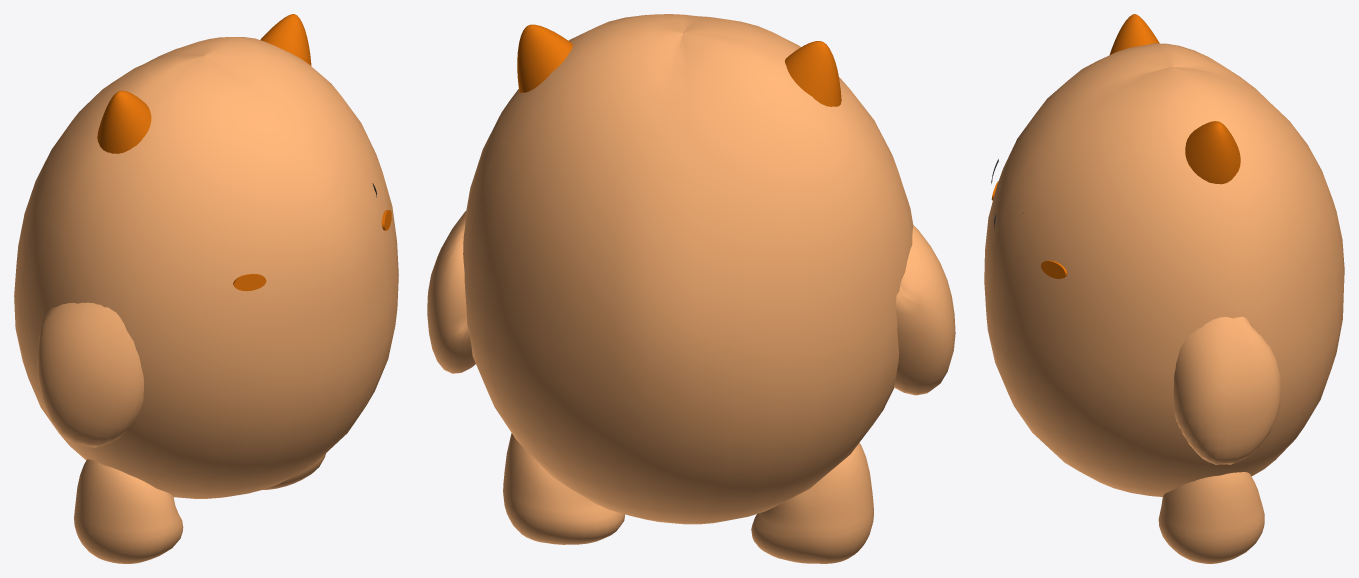
The model's file is LittleMonster1.glb.
The picture shows the model from 3 angles, left to right: view 1: azimuth 30°, elevation 25°; view 2: azimuth 150°, elevation 25°; view 3: azimuth 270°, elevation 25°; orthographic projection. The views are drawn at different scales.
Parts seen in each view (by area): view 1: SurfSphere, SurfSphere.001, SurfSphere.003, SurfSphere.006, SurfSphere.005; view 2: SurfSphere, SurfSphere.003, SurfSphere.001, SurfSphere.004, SurfSphere.002, SurfSphere.005, SurfSphere.006; view 3: SurfSphere, SurfSphere.002, SurfSphere.004, SurfSphere.005, SurfSphere.006.
Part boxes in pixels (x1=…): SurfSphere: x1=14, y1=37, x2=398, y2=498; SurfSphere.001: x1=37, y1=302, x2=144, y2=447; SurfSphere.003: x1=74, y1=459, x2=183, y2=563; SurfSphere.006: x1=97, y1=90, x2=151, y2=153; SurfSphere.005: x1=260, y1=14, x2=311, y2=65; SurfSphere: x1=463, y1=14, x2=913, y2=524; SurfSphere.003: x1=751, y1=443, x2=873, y2=563; SurfSphere.001: x1=894, y1=225, x2=955, y2=395; SurfSphere.004: x1=503, y1=433, x2=624, y2=544; SurfSphere.002: x1=427, y1=211, x2=475, y2=373; SurfSphere.005: x1=517, y1=24, x2=572, y2=92; SurfSphere.006: x1=785, y1=41, x2=841, y2=106; SurfSphere: x1=984, y1=43, x2=1344, y2=496; SurfSphere.002: x1=1173, y1=316, x2=1280, y2=464; SurfSphere.004: x1=1158, y1=472, x2=1264, y2=563; SurfSphere.005: x1=1185, y1=121, x2=1240, y2=184; SurfSphere.006: x1=1109, y1=14, x2=1159, y2=54.
Size of the model in its own units: 6.42 by 7.12 by 5.16.
